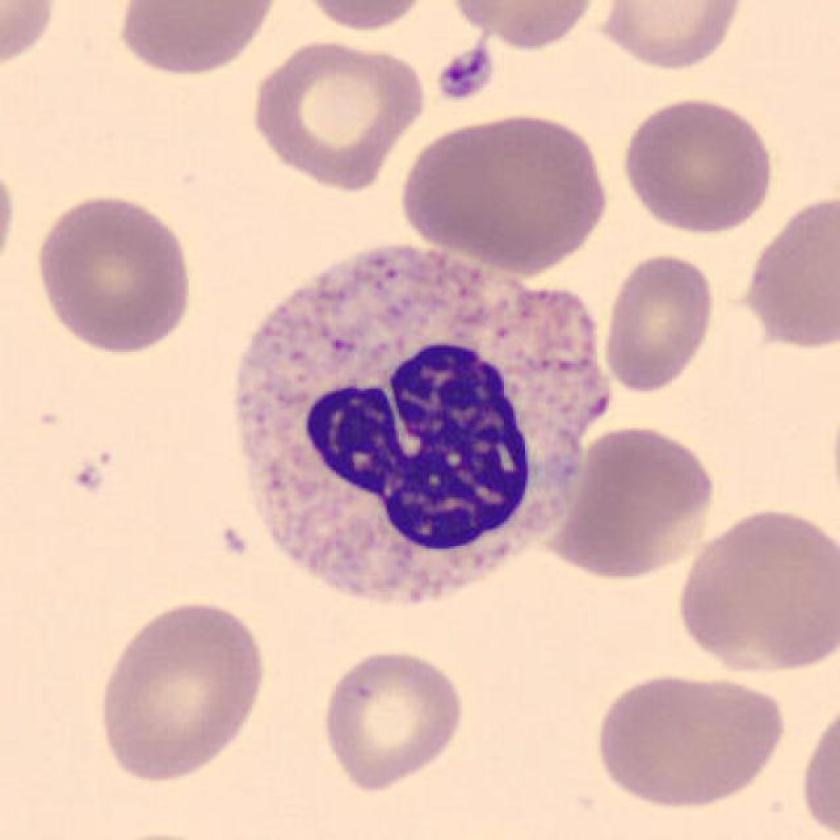neutrophil: (234, 246, 608, 606)
